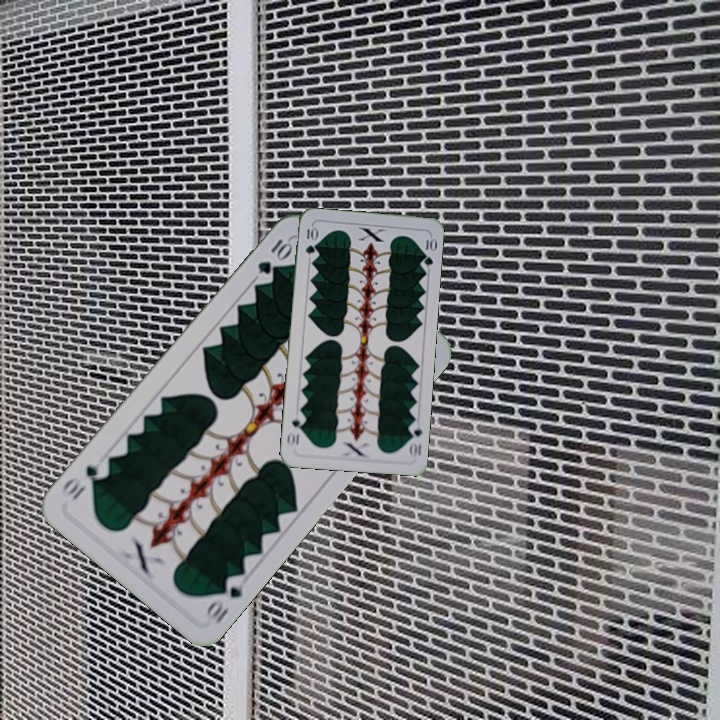G10: (202, 570, 249, 626), (253, 235, 295, 277), (405, 419, 424, 460), (301, 223, 318, 257)
